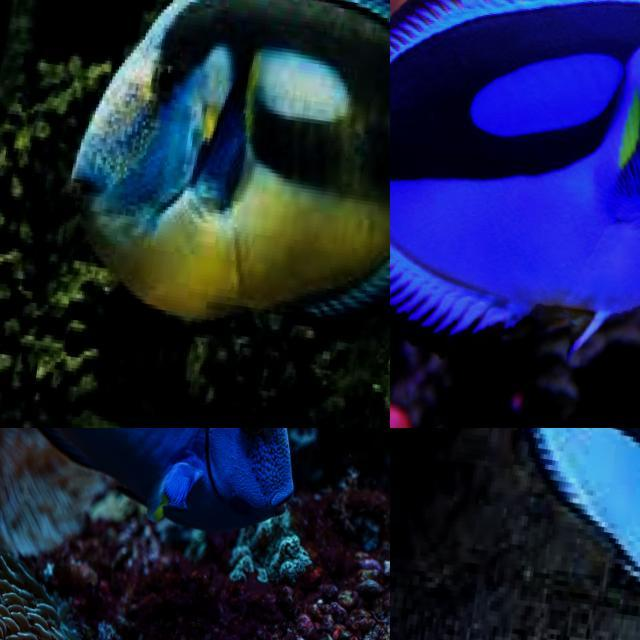BlueTang: (37, 0, 390, 395), (390, 0, 640, 406), (0, 428, 341, 613), (405, 428, 640, 640)
